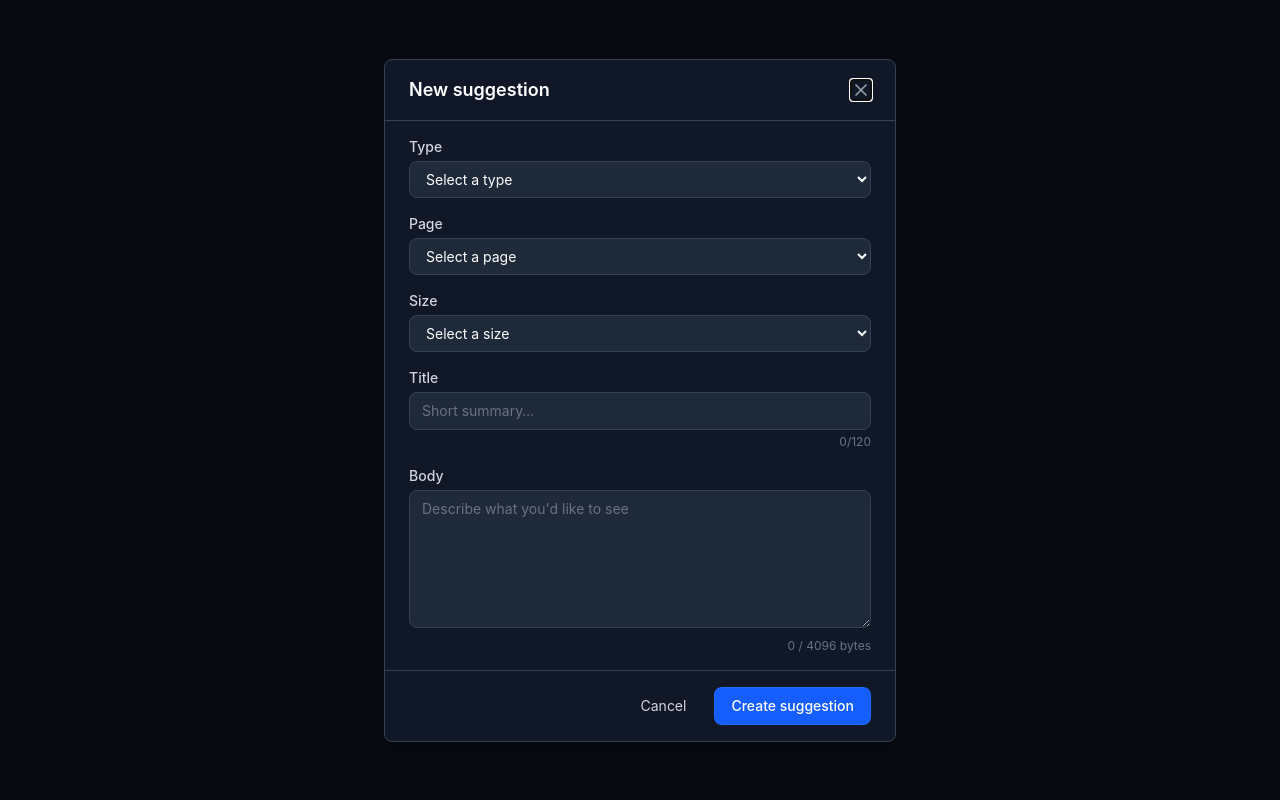
Scenario: NewSuggestionForm › surfaces the backend error message on submit failure
Step 1. Select "Addition" in the dropdown labelled "Type" → [640, 179], box top-left (409, 160), bottom-right (871, 198)
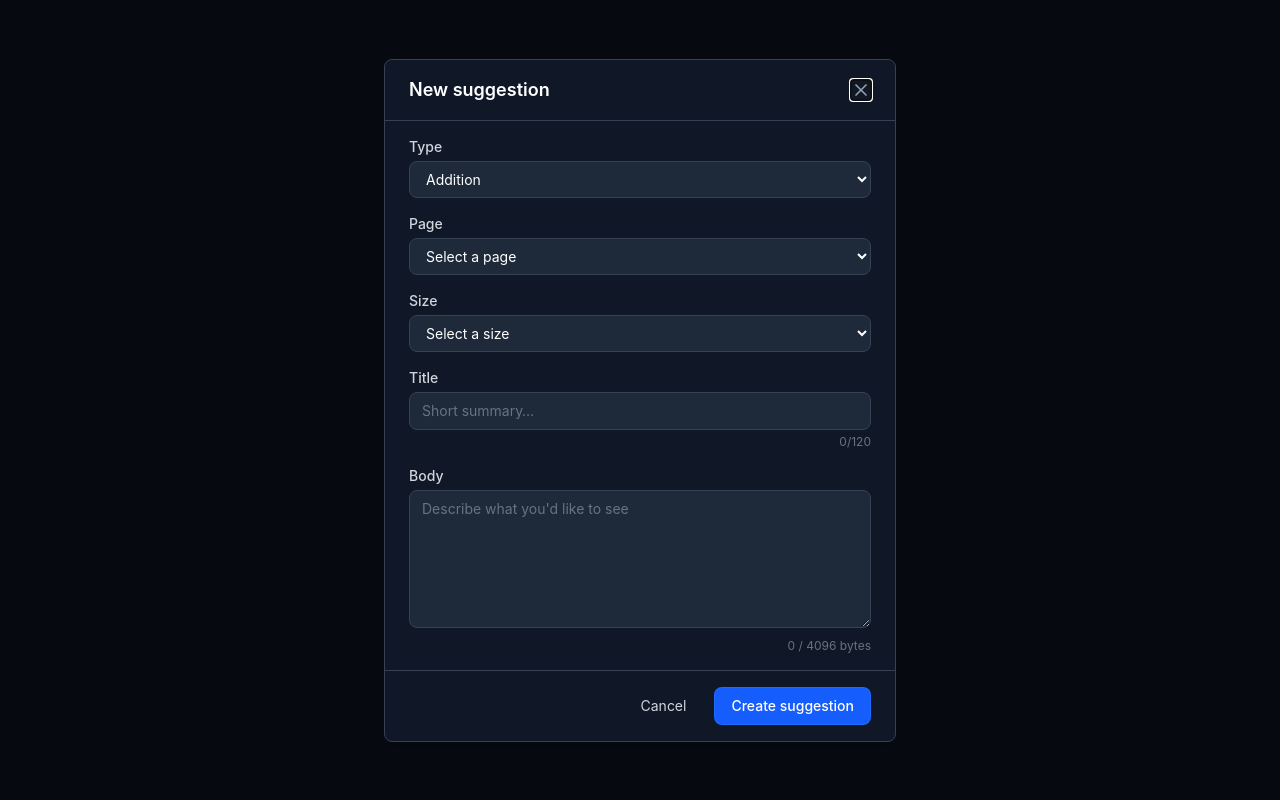
Step 2. Select "S" in the dropdown labelled "Size" → [640, 333], box top-left (409, 314), bottom-right (871, 352)
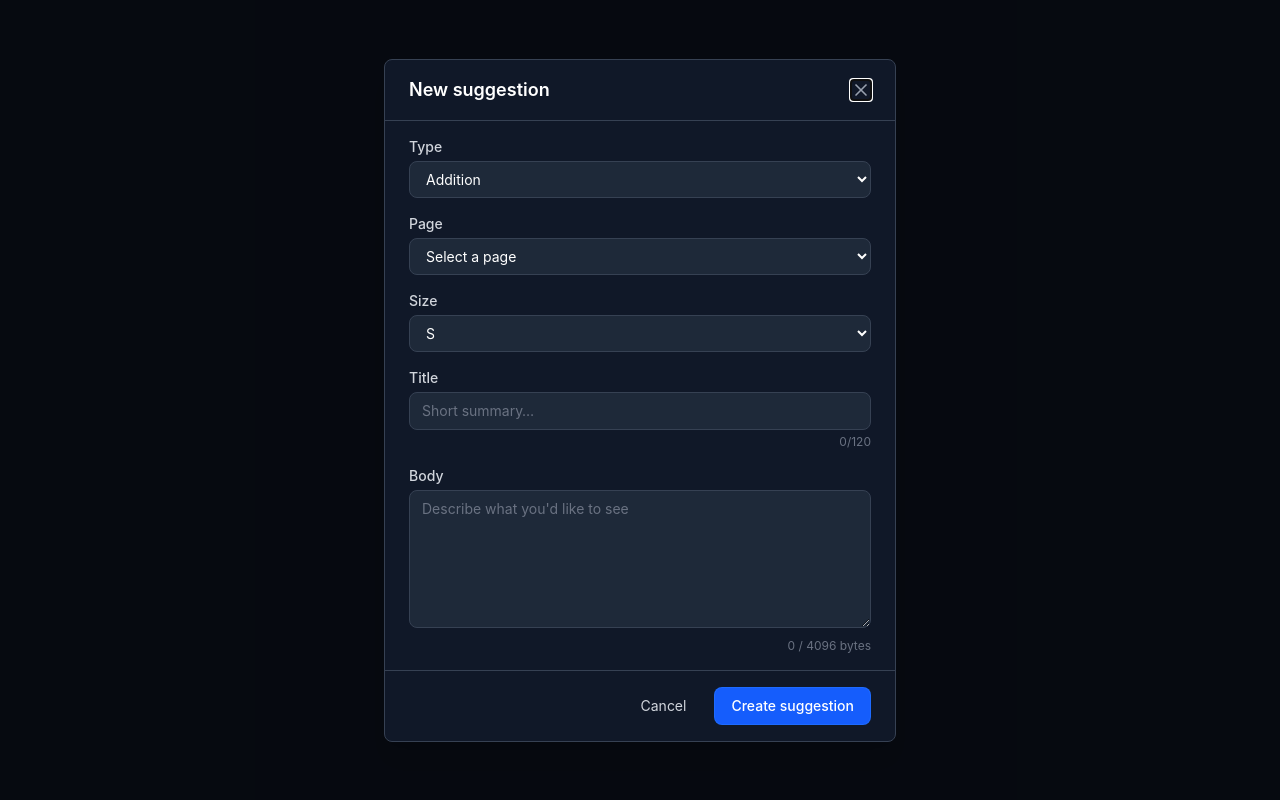
Step 3. Select "Weather" in the dropdown labelled "Page" → [640, 256], box top-left (409, 238), bottom-right (871, 274)
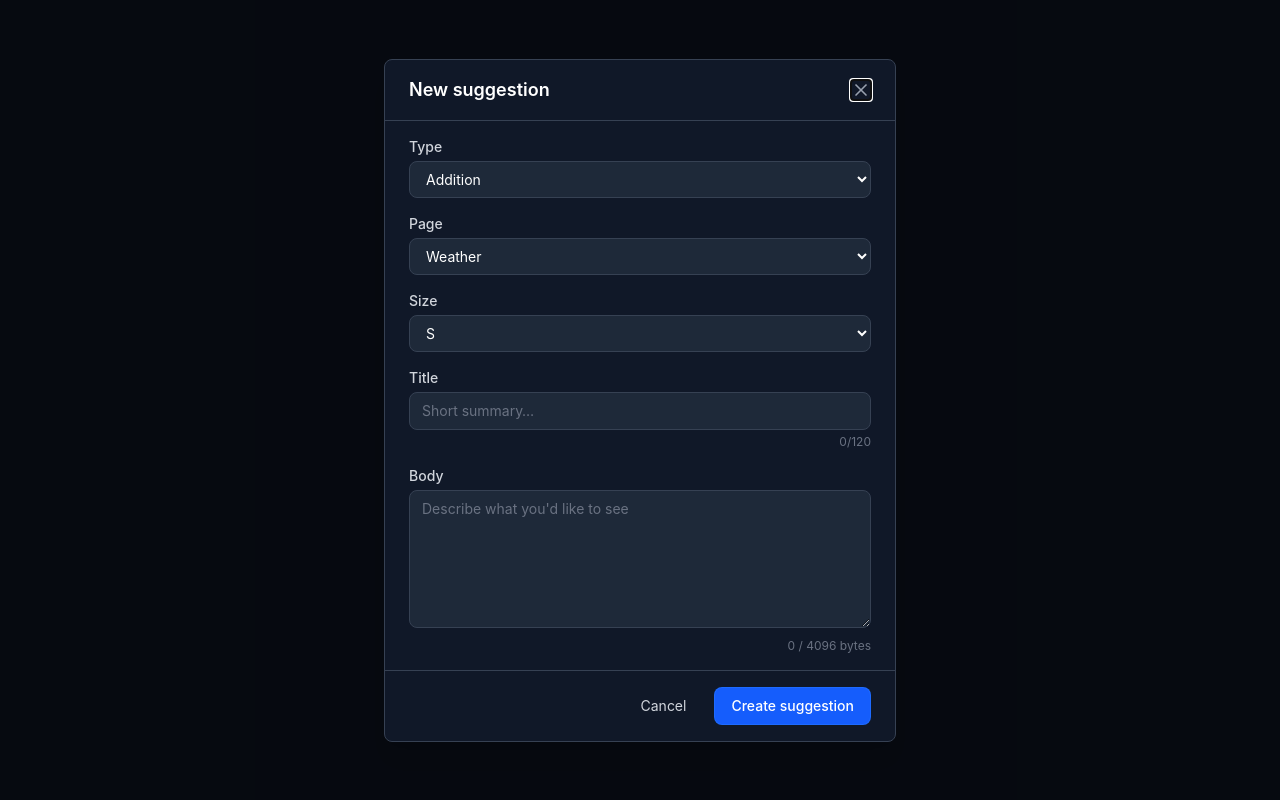
Step 4. Type "A title" into the field labelled "Title" → [640, 410], box top-left (409, 392), bottom-right (871, 430)
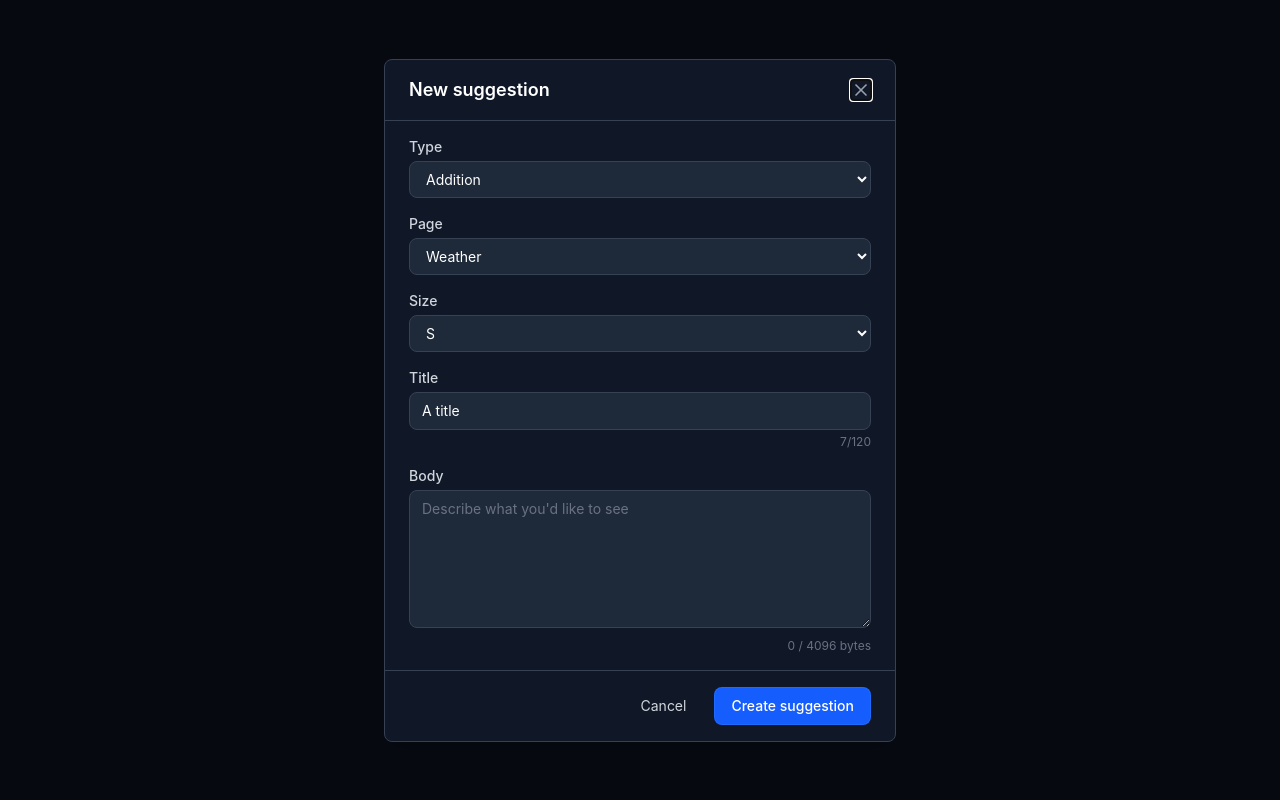
Step 5. Type "A body" into the text box labelled "Body" → [640, 558], box top-left (409, 490), bottom-right (871, 628)
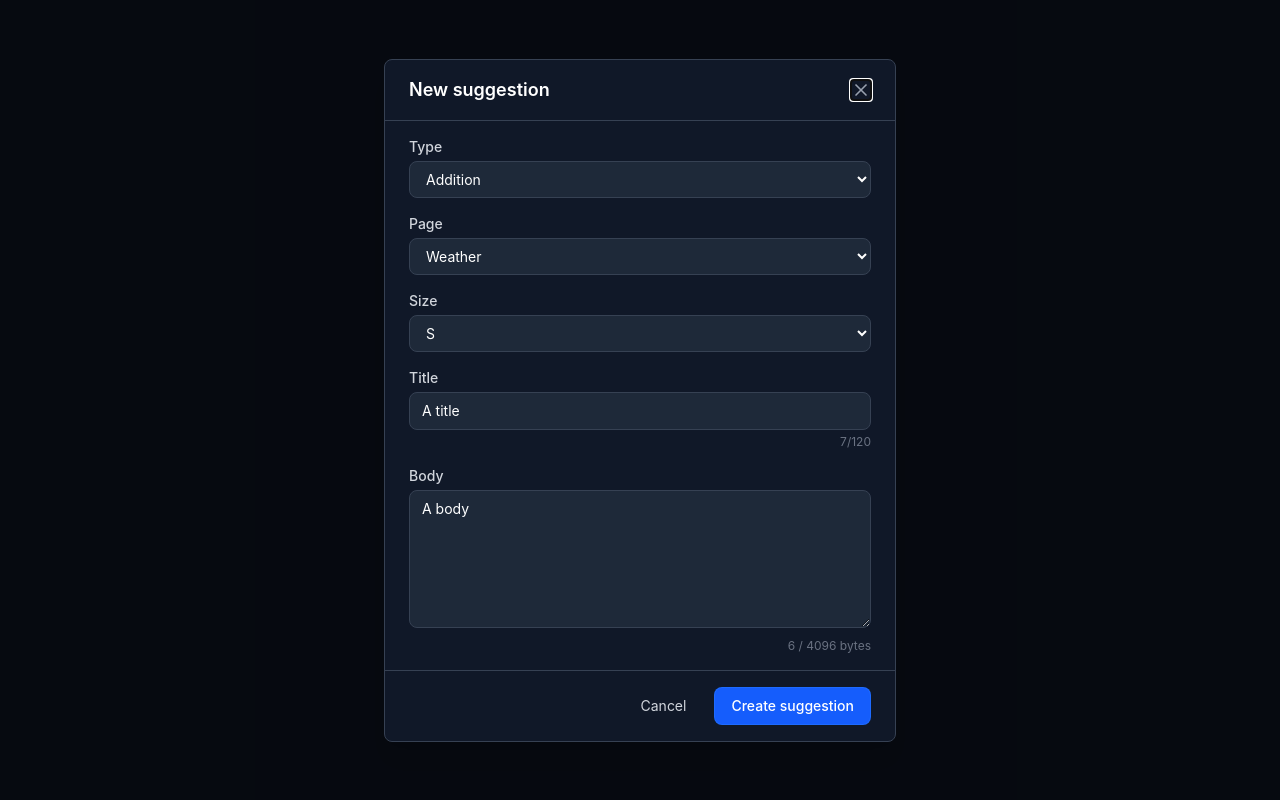
Step 6. Click the button "Create suggestion" → [793, 706], box top-left (714, 686), bottom-right (871, 724)
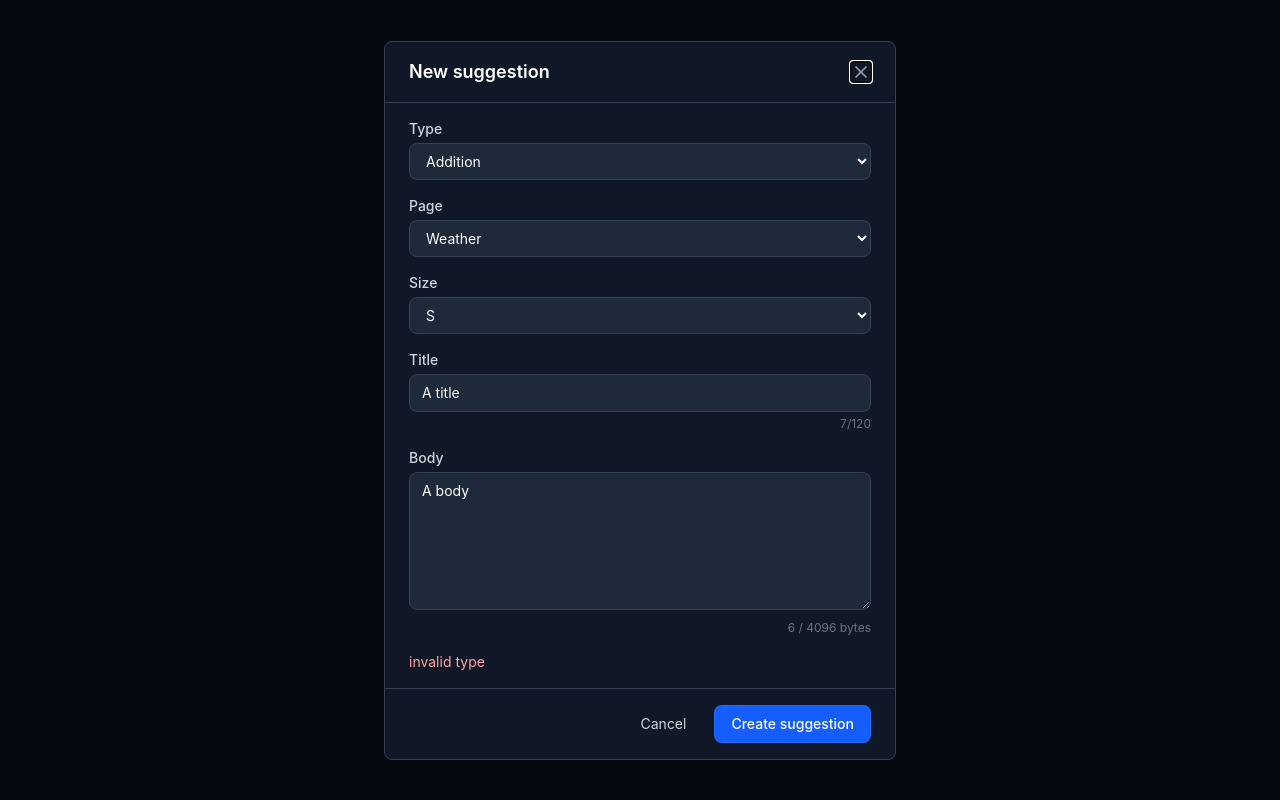
Result: the message with test id "new-suggestion-submit-error" reads "invalid type" at top-left (409, 652), bottom-right (485, 670)
